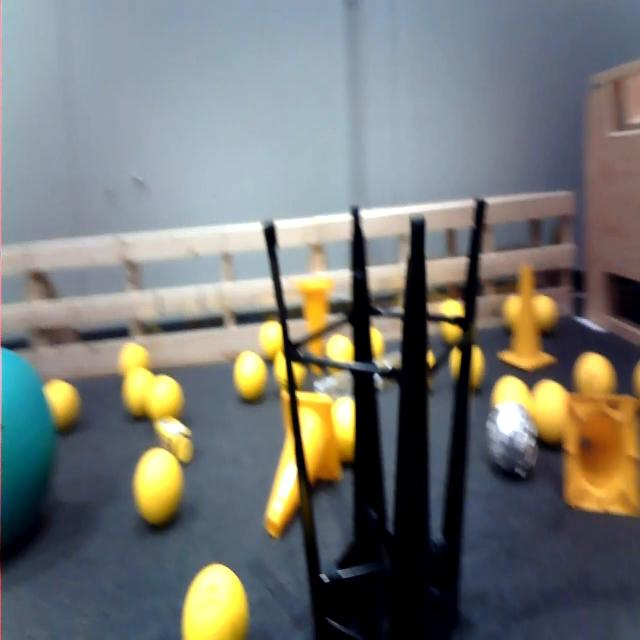fuel: (177, 554, 252, 640), (123, 438, 190, 534), (569, 343, 621, 413), (40, 371, 91, 434), (489, 358, 532, 430), (527, 375, 574, 440), (231, 340, 270, 410), (143, 363, 187, 422), (330, 394, 365, 462), (450, 336, 488, 398), (432, 295, 469, 347), (122, 363, 156, 418), (257, 312, 289, 363), (324, 323, 356, 374), (271, 343, 306, 387), (419, 339, 444, 399), (529, 287, 562, 332), (116, 335, 151, 375), (363, 315, 388, 368), (500, 288, 521, 326), (632, 353, 640, 397)
